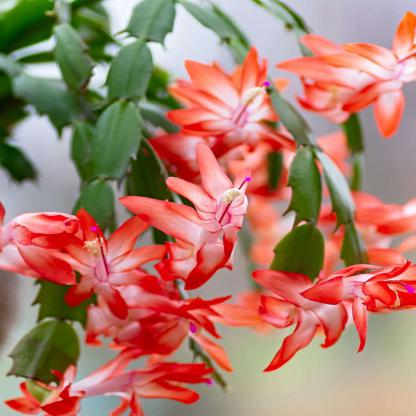Aglonema: (43, 53, 342, 416)
